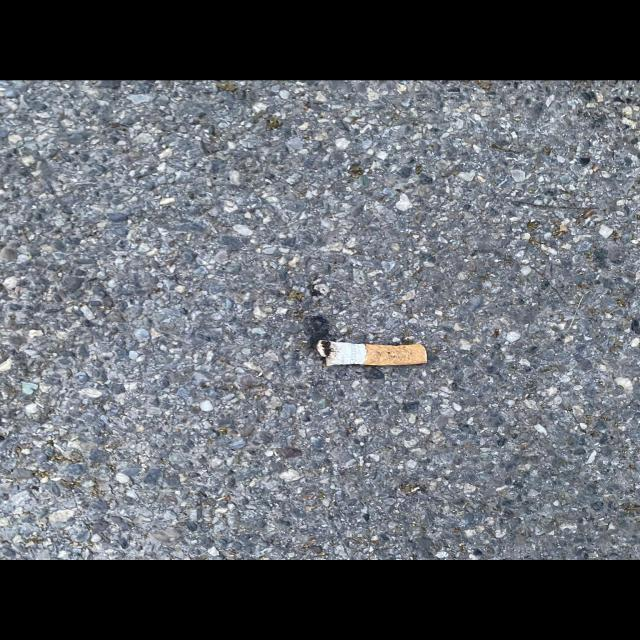other waste: (316, 339, 428, 366)
